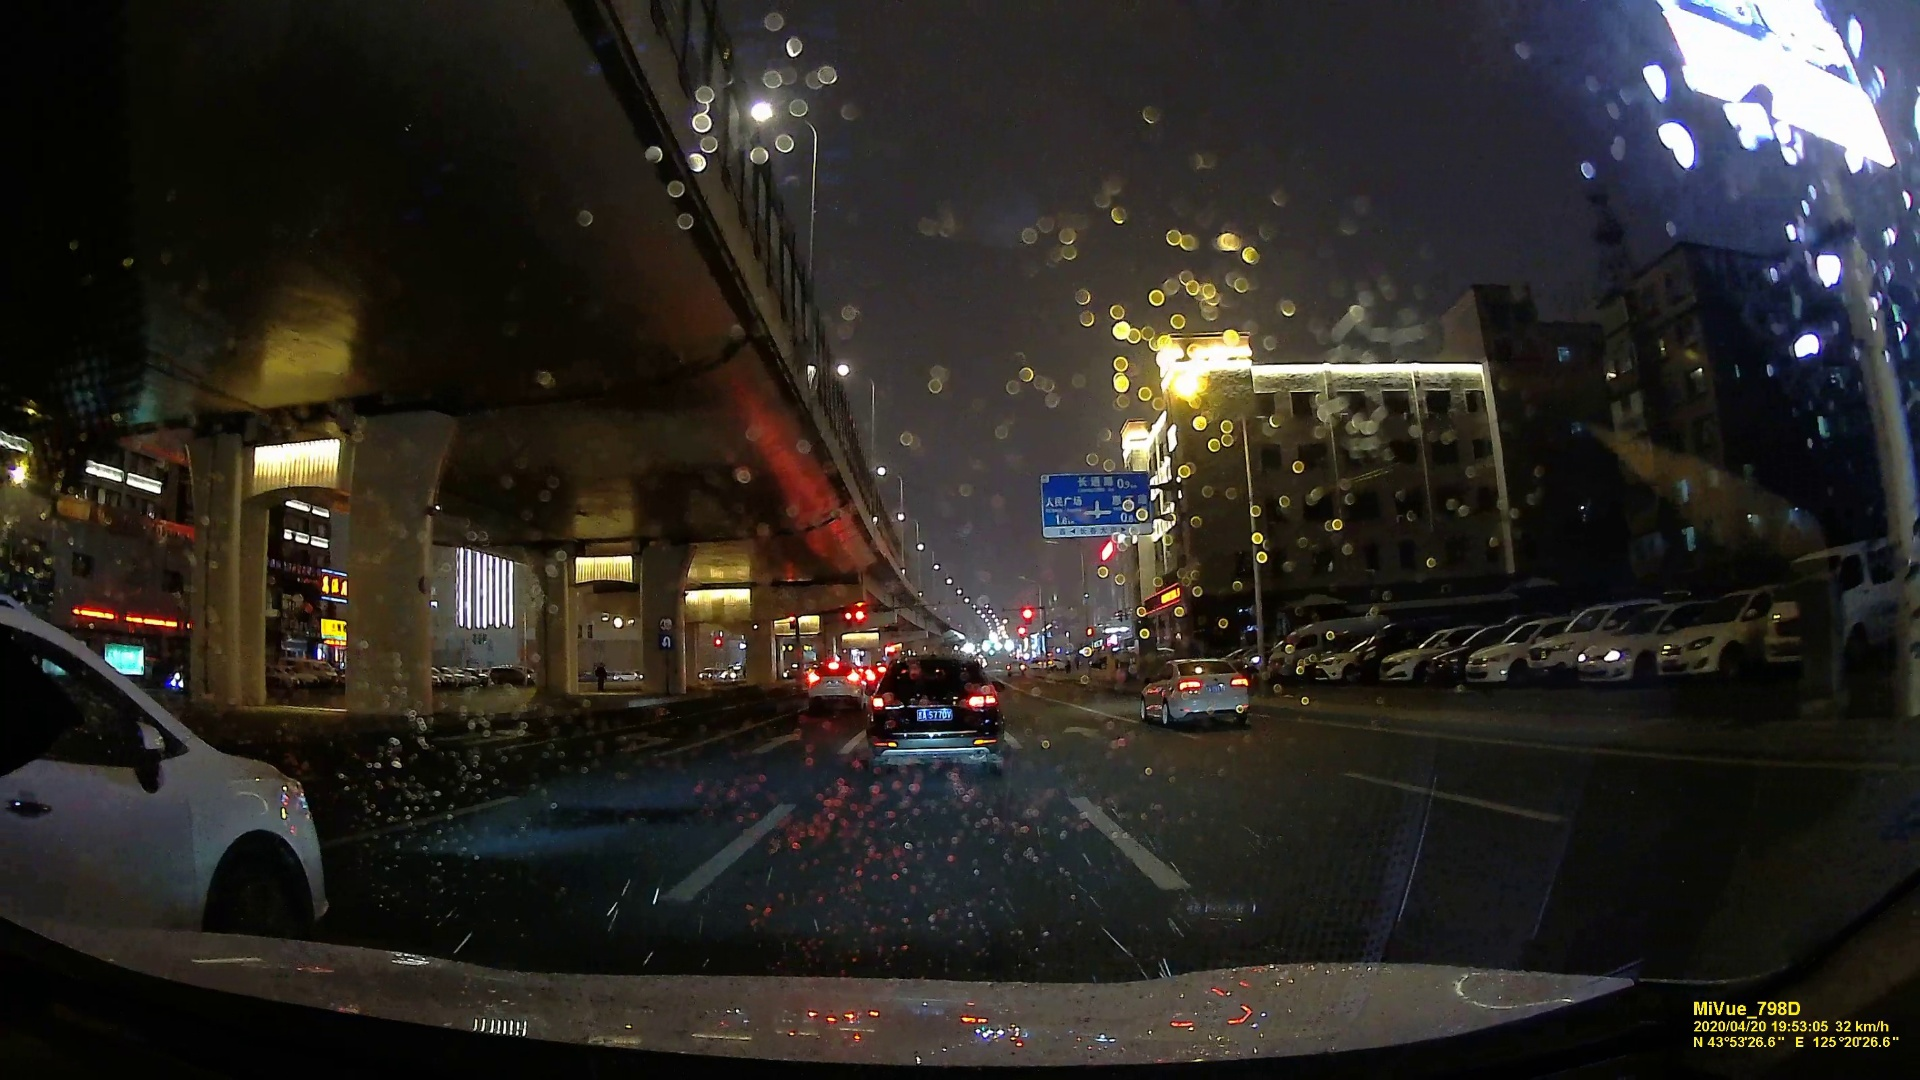traffic_sign: (1042, 475, 1154, 531)
vehicle: (4, 608, 324, 942), (866, 655, 1004, 774), (1139, 658, 1255, 731), (808, 659, 862, 704)
